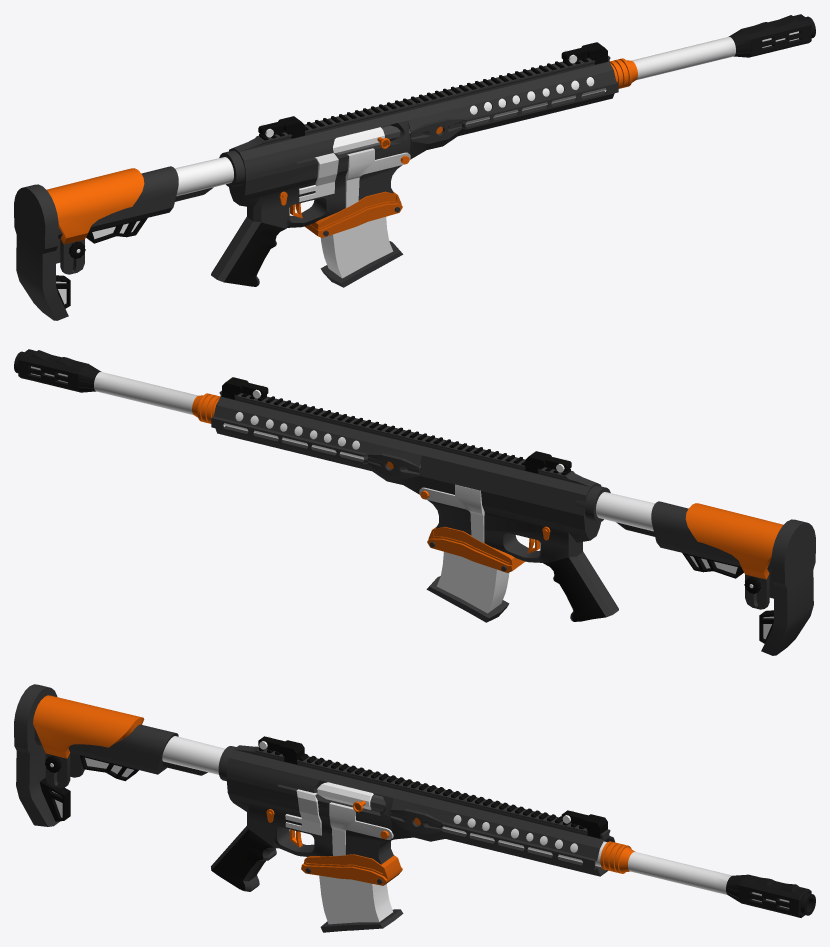
File: Derya_MK12_Mesh.fbx
3 renders of one model, top to bottom at view 1: azimuth 30°, elevation 25°; view 2: azimuth 150°, elevation 25°; view 3: azimuth 330°, elevation 25°, orthographic.
Visible parts, largest first — view 1: Derya_MK12; view 2: Derya_MK12; view 3: Derya_MK12.
Part boxes in pixels (<box>): Derya_MK12: <box>14,14,815,320</box>; Derya_MK12: <box>14,349,815,655</box>; Derya_MK12: <box>14,684,815,932</box>.
Bounding box in the file's own units: 0.8463 × 0.177 × 0.0587.
